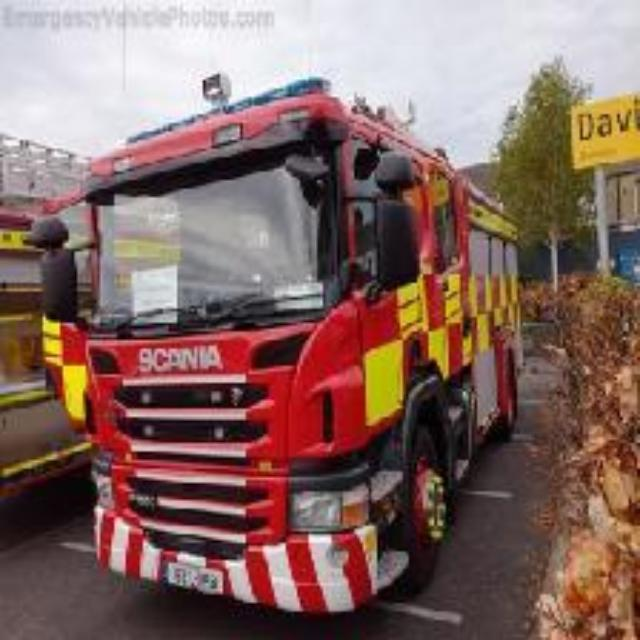emergency: (39, 120, 527, 598)
